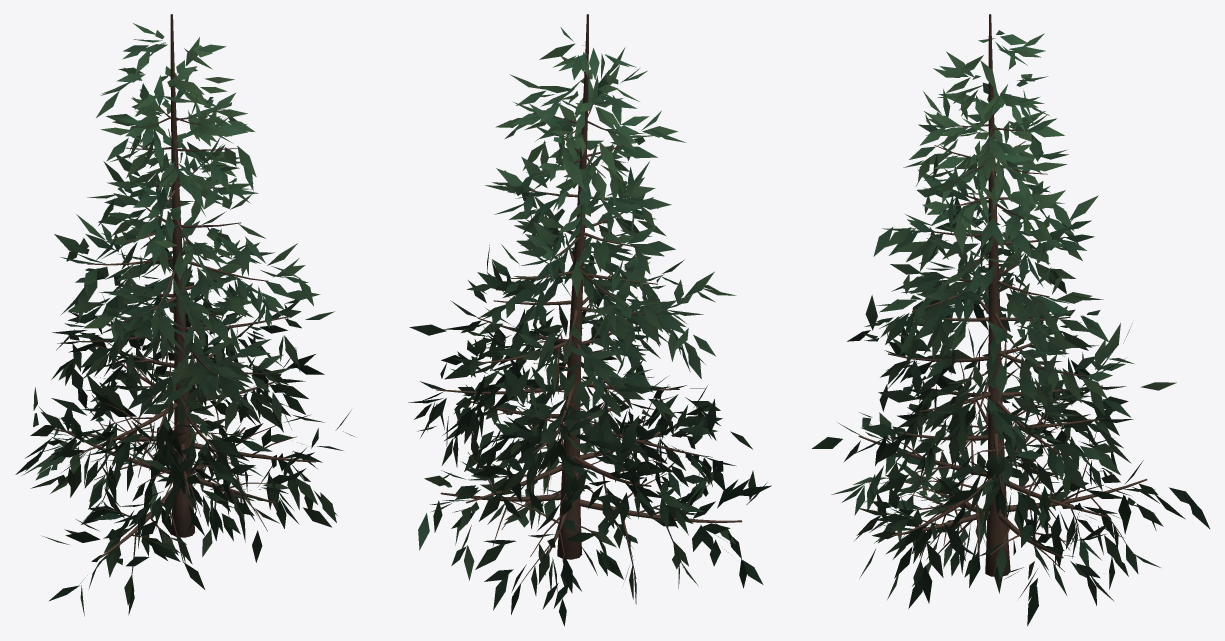
The model's file is spruce-c.lod0.glb.
3 renders of one model, left to right at view 1: azimuth 30°, elevation 25°; view 2: azimuth 150°, elevation 25°; view 3: azimuth 270°, elevation 25°, orthographic. The views are drawn at different scales.
Bounding box in the file's own units: 8.8 × 15.49 × 9.54.
